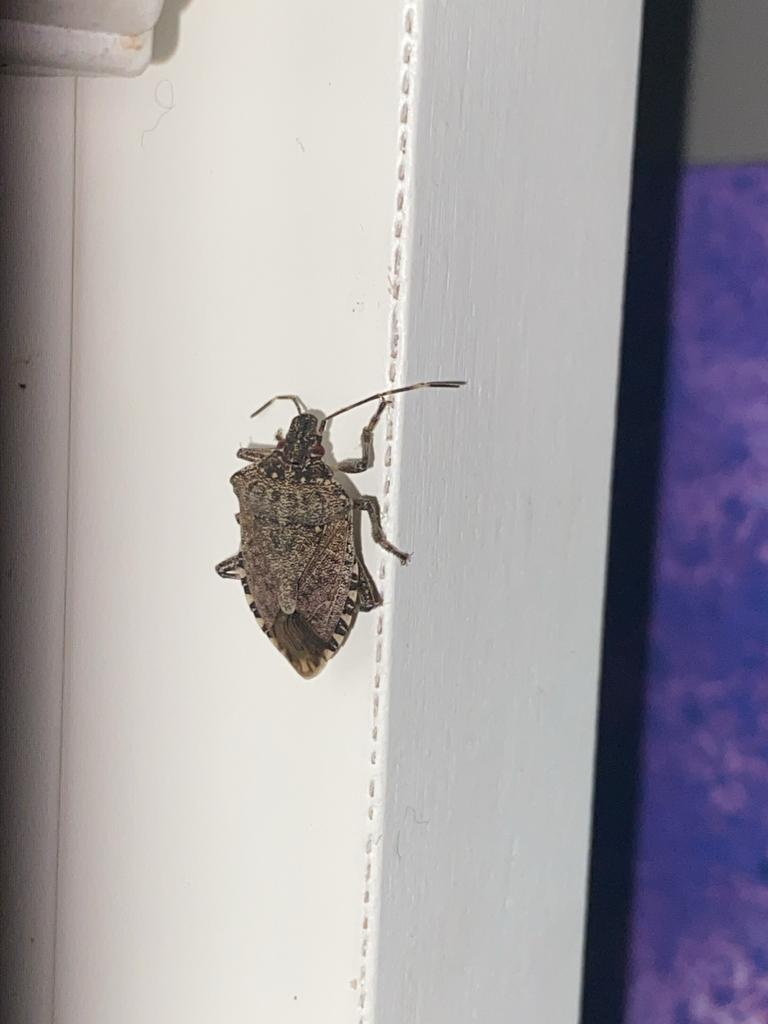stink_bugs: (149, 341, 517, 726)
